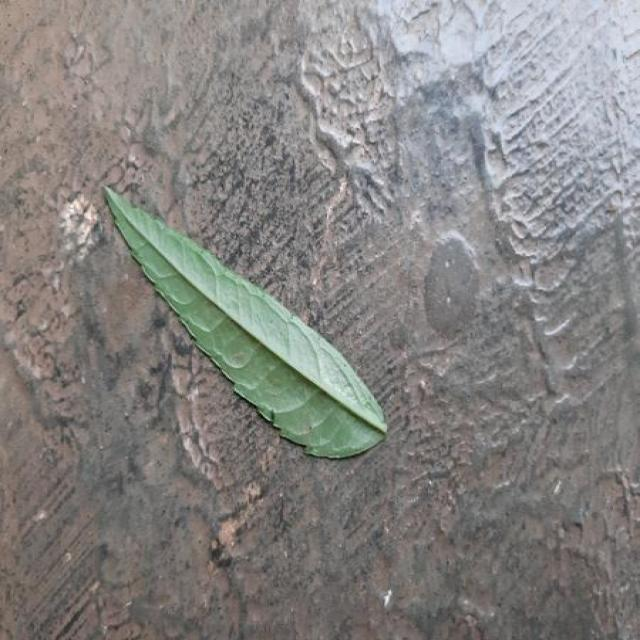marigold: (108, 188, 387, 457)
